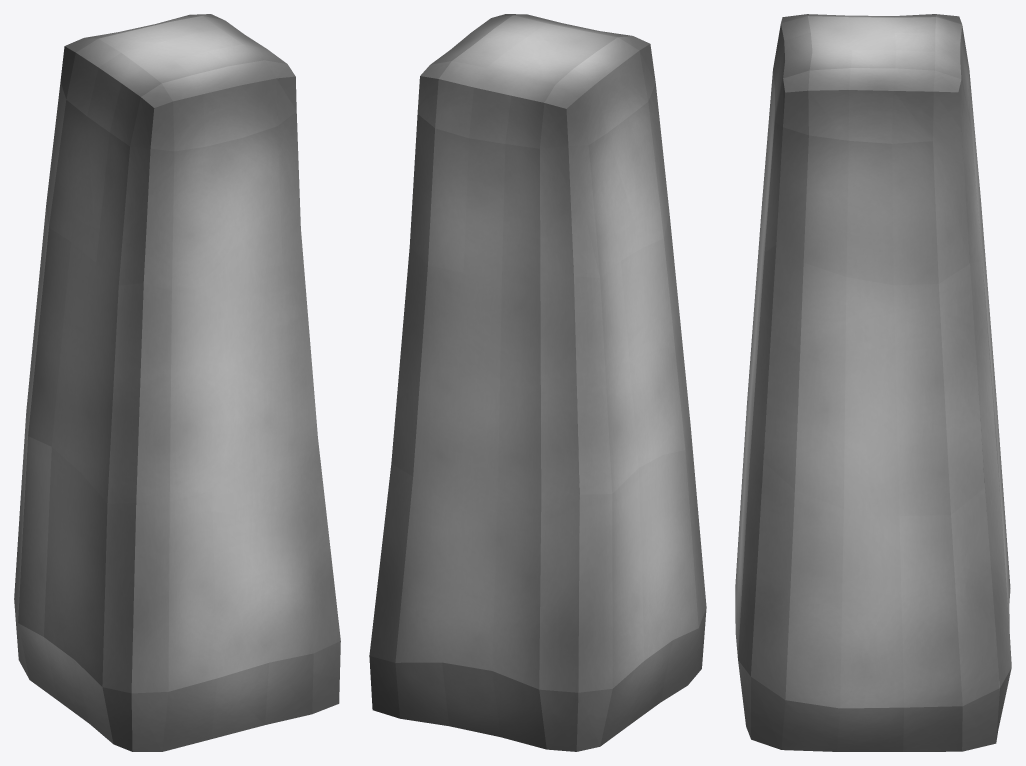
Rendered from post2.fbx.
3 renders of one model, left to right at view 1: azimuth 30°, elevation 25°; view 2: azimuth 150°, elevation 25°; view 3: azimuth 270°, elevation 25°, orthographic.
Parts seen in each view (by area): view 1: post2; view 2: post2; view 3: post2.
Boxes of the visible parts, bbox=[...] form: post2: bbox=[14, 14, 340, 751]; post2: bbox=[369, 14, 706, 751]; post2: bbox=[735, 14, 1011, 751].
Size of the model in its own units: 35.98 by 93.16 by 34.93.
